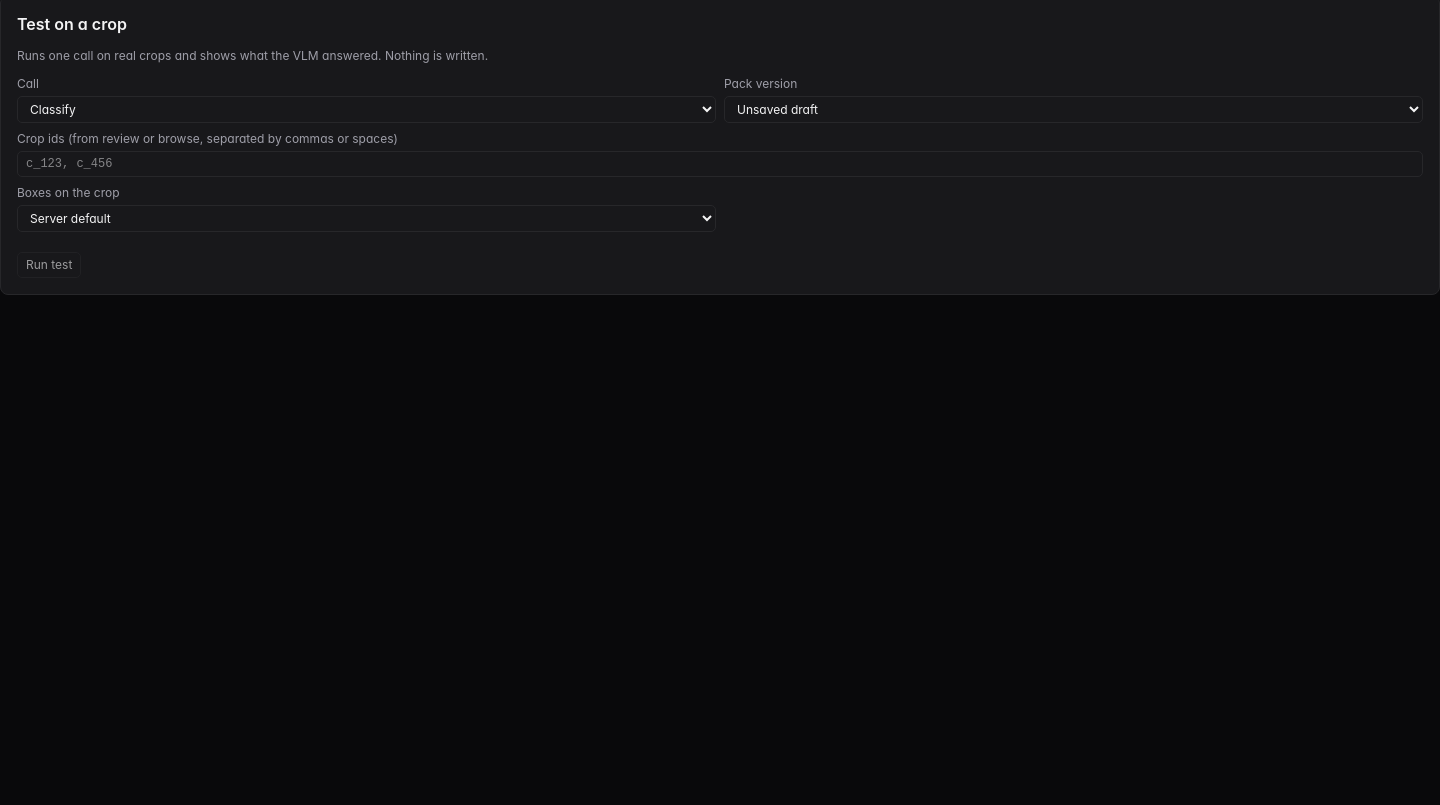
it: PackTestPanel › runs the draft and renders the served prompt, reply and parsed result
Type "c_123" into the field at (720, 164), box x1=17 y1=151 x2=1423 y2=177
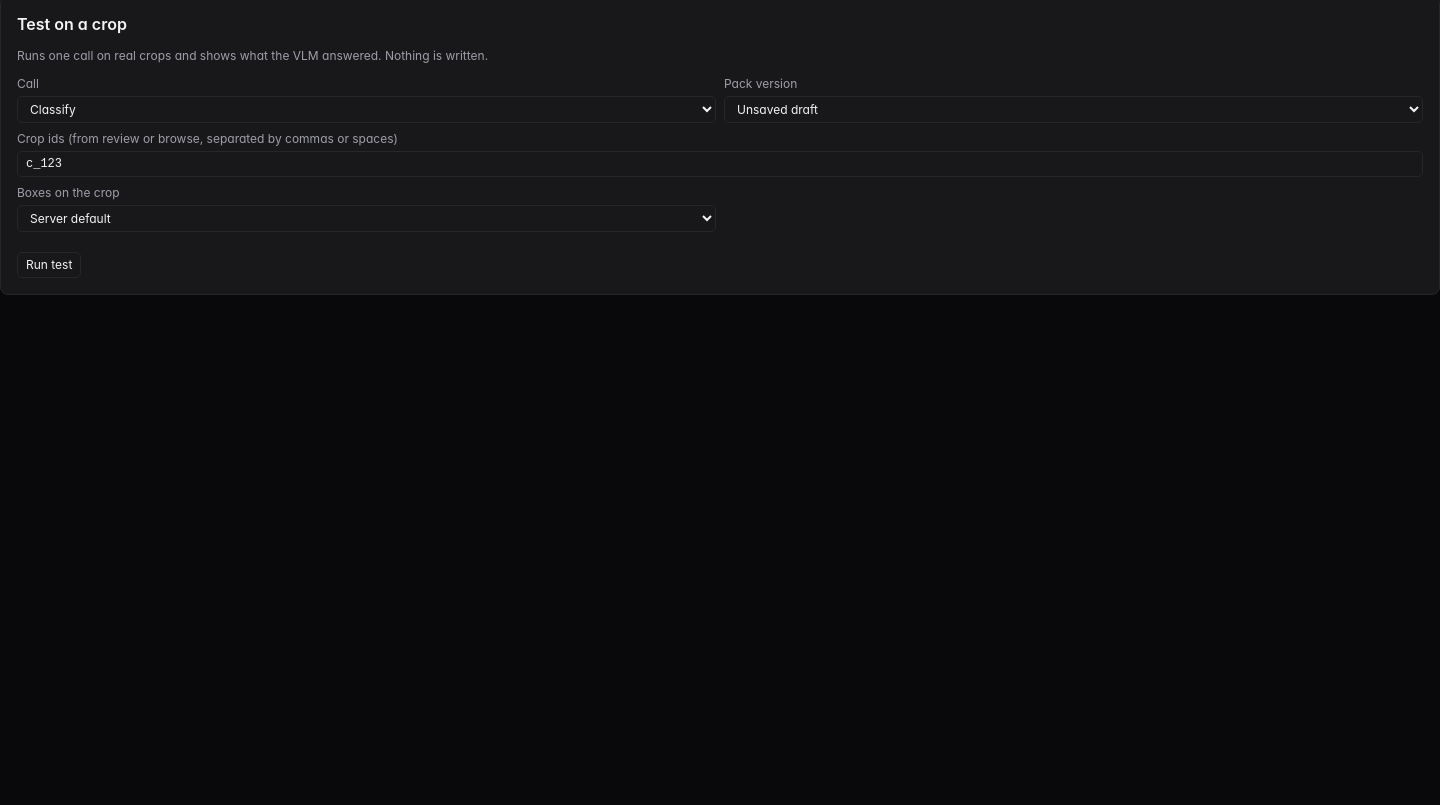
Click the button "Run test" at (49, 265), box x1=17 y1=252 x2=81 y2=278
(page scrolled)
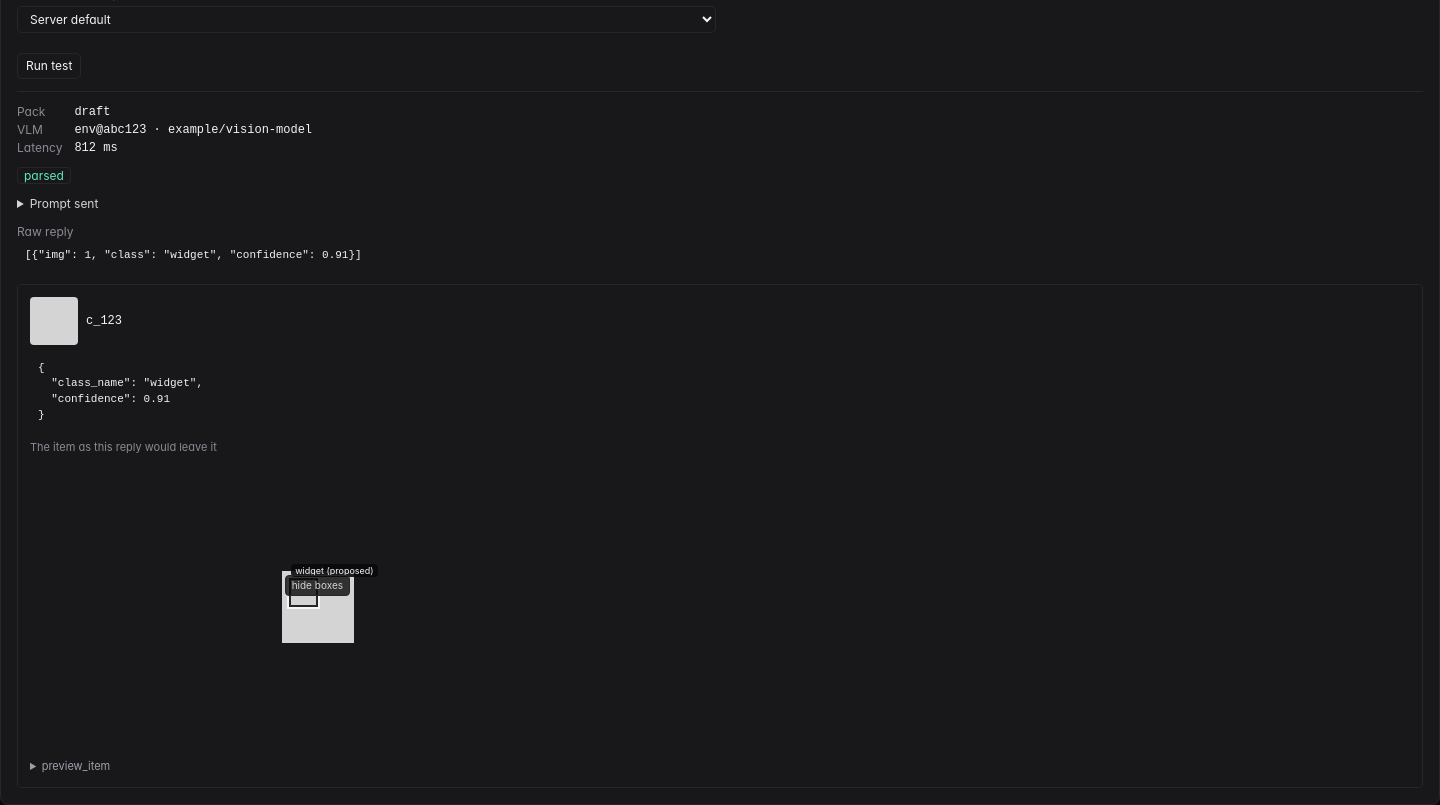
expect the element showing "parsed" is shown: met, box x1=17 y1=167 x2=71 y2=184
expect the text "draft" is shown: met, box x1=74 y1=105 x2=110 y2=119
expect the text "812 ms" is shown: met, box x1=74 y1=141 x2=118 y2=155
